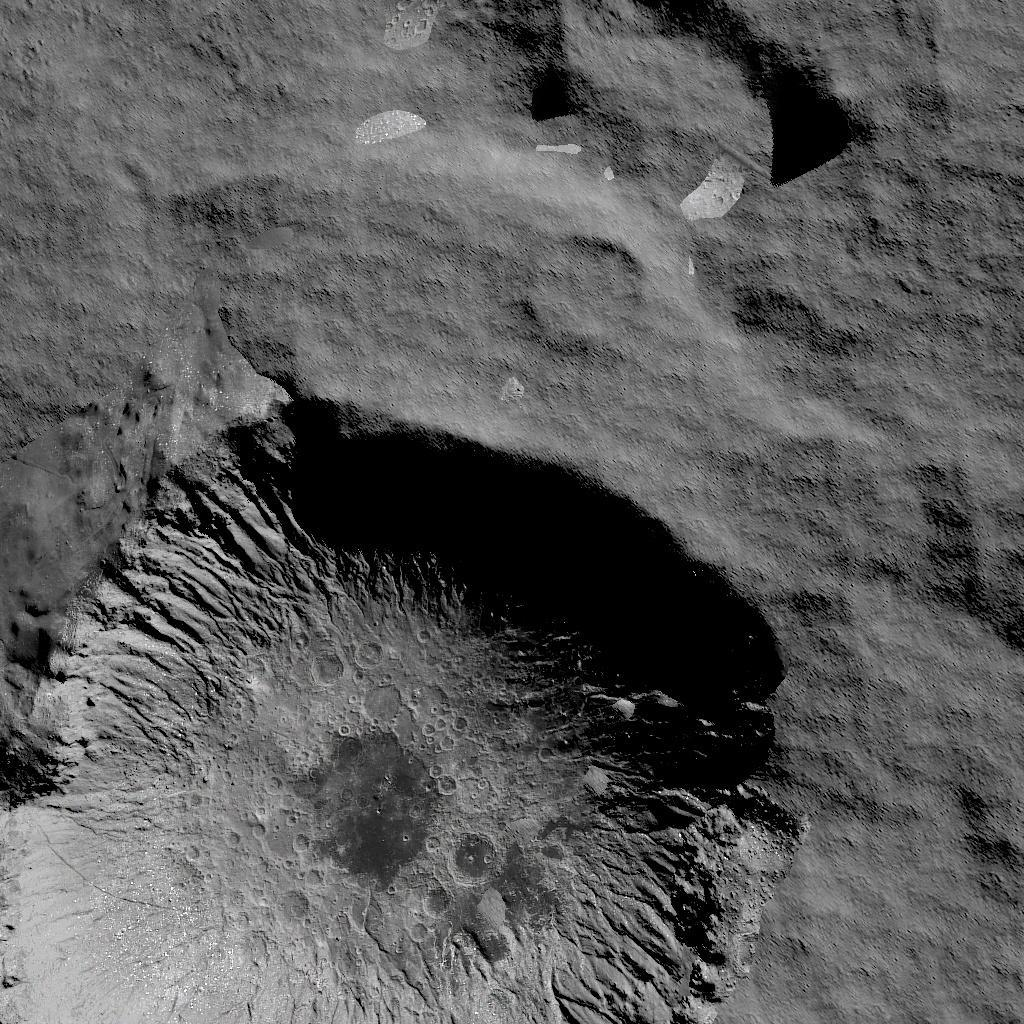Crater: (1, 380, 808, 1024), (515, 210, 658, 361)
Plan surface: (0, 0, 482, 363)
